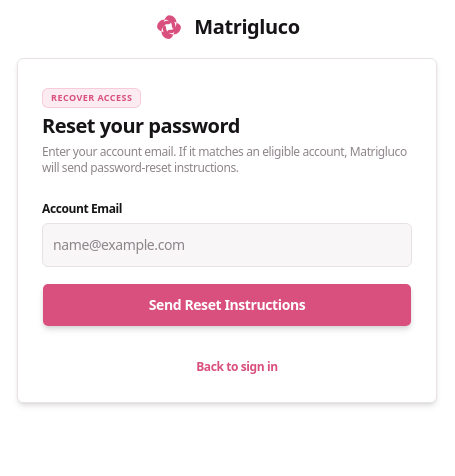
it: ForgotPasswordPage › submits request and shows non-enumerating success feedback
In the field labelled "Account Email": (227, 245) 42,223 -> 412,267, type "patient@example.com"
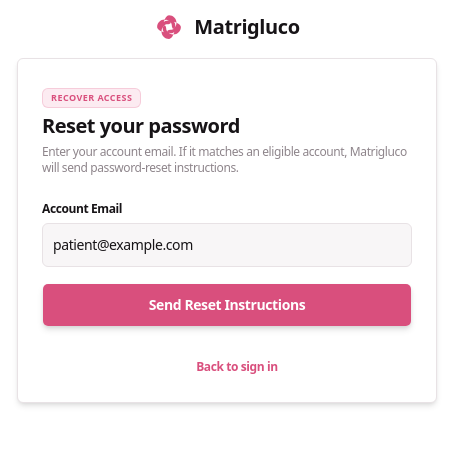
Click the button "Send Reset Instructions": (227, 305) 42,283 -> 412,327
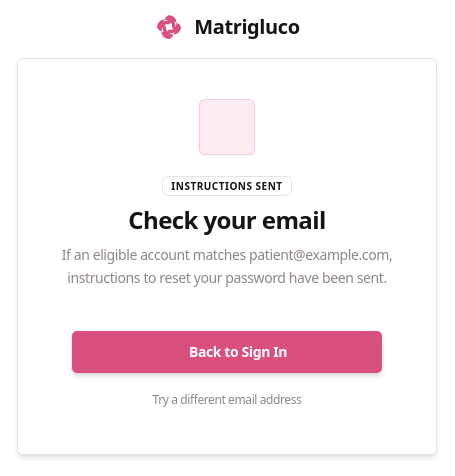
Expected: the text "Check your email" is shown, 128,203 -> 326,236
Expected: the text "patient@example.com" is shown, 62,245 -> 392,287
